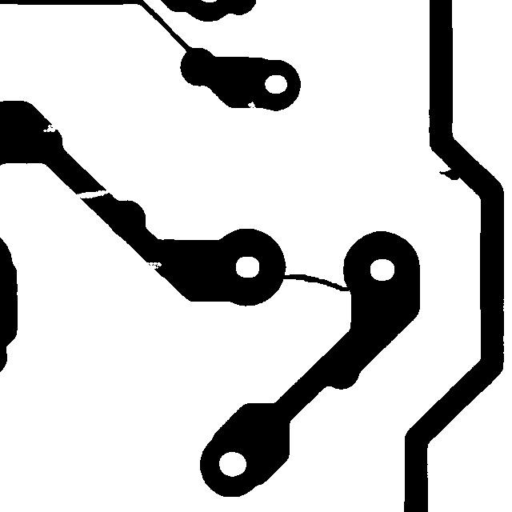mousebite: (134, 254, 169, 277), (35, 117, 64, 139), (240, 94, 265, 118)
open: (67, 182, 117, 206)
short: (270, 266, 357, 298)
spur: (431, 162, 467, 187)
